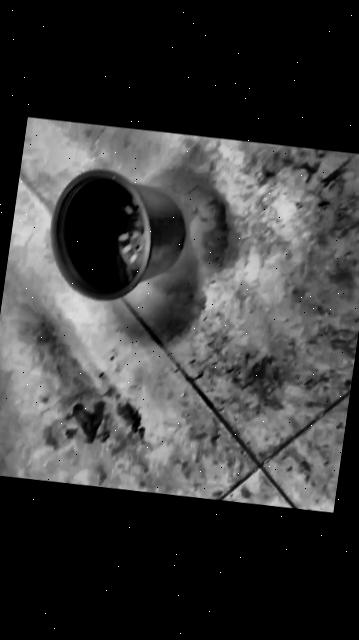pot: (41, 161, 191, 312)
